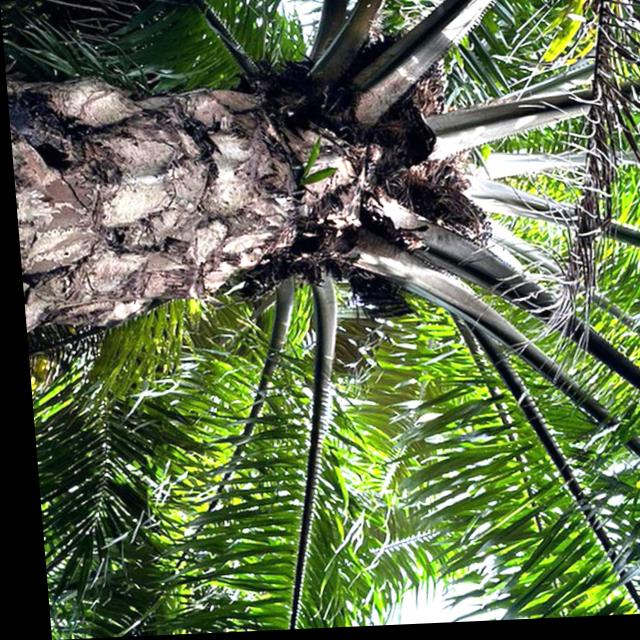almost: (379, 27, 455, 124), (418, 187, 494, 261)
